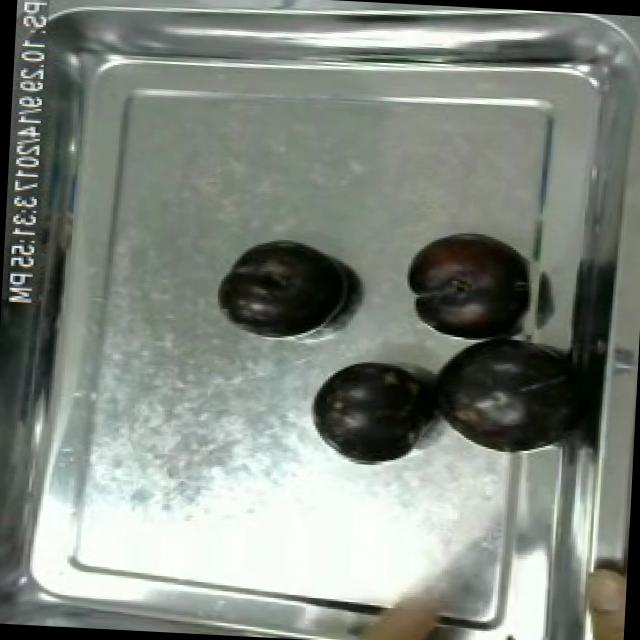Fruit: (422, 334, 582, 454), (398, 228, 536, 341), (212, 234, 356, 340), (306, 356, 434, 468), (563, 553, 628, 640)
